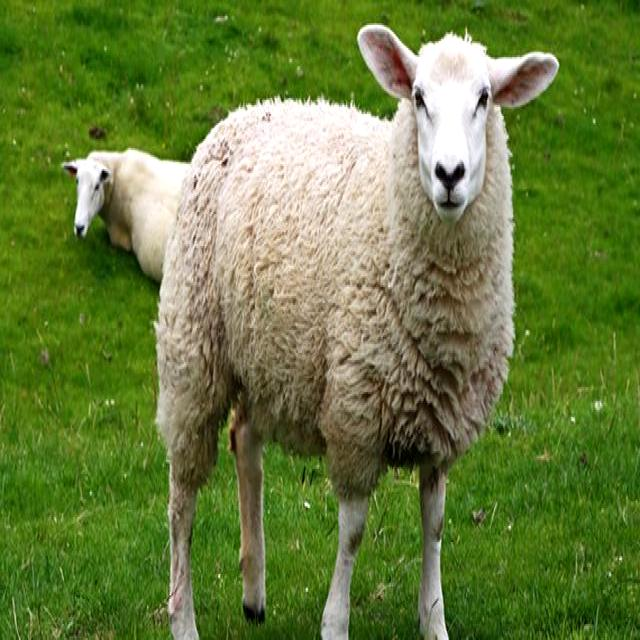sheep: (155, 25, 558, 640)
